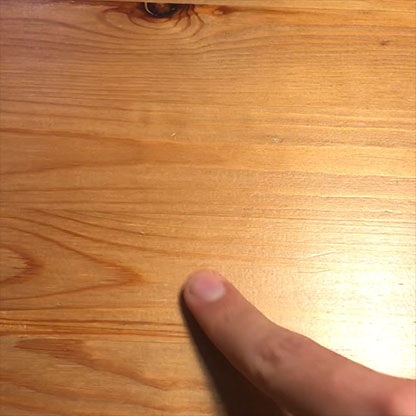fingertip: (172, 255, 232, 310)
